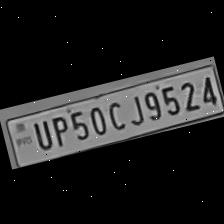0: (82, 100, 108, 136)
2: (174, 75, 200, 112)
4: (192, 70, 218, 107)
5: (64, 106, 90, 142), (156, 80, 182, 116)
9: (137, 85, 163, 122)
C: (102, 95, 128, 132)
J: (119, 89, 146, 127)
P: (44, 110, 71, 148)
U: (25, 116, 52, 153)
